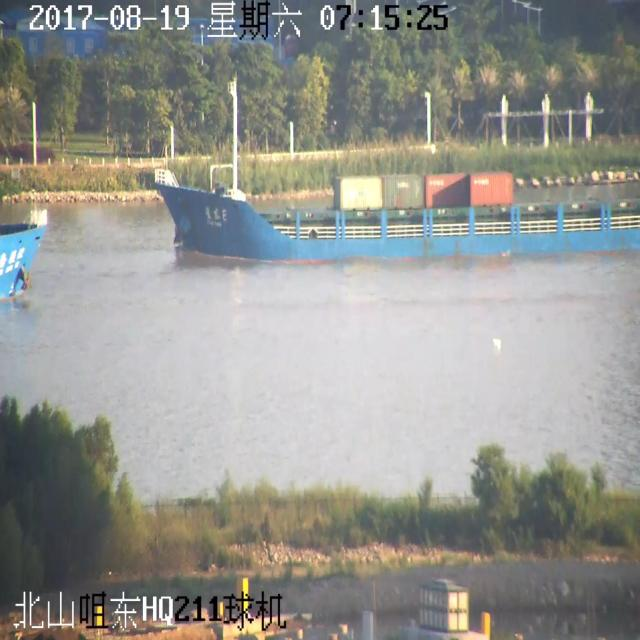cargoship: (135, 83, 640, 264)
